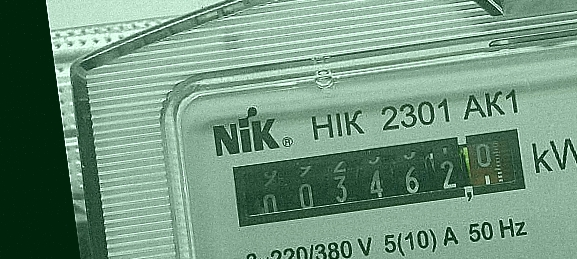0: (295, 179, 316, 210), (473, 140, 494, 170), (258, 190, 280, 215)
2: (437, 157, 459, 191)
3: (329, 172, 351, 207)
4: (366, 167, 387, 201)
6: (399, 162, 424, 198)
9: (258, 168, 280, 189)
screen: (218, 115, 539, 247)
